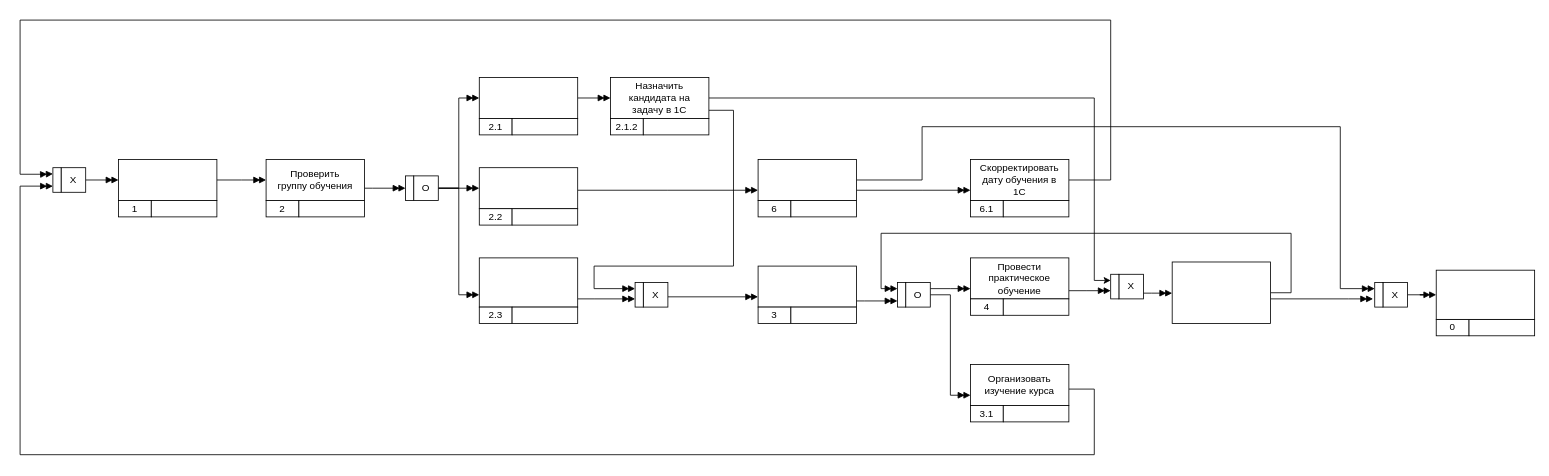
This 1549x476 diagram has some shape labels left out. Each missing label, with the box of its shape:
Выяснить причину неявки стажера: (757, 159, 856, 200)
Оценить готовность стажера к самостоятельной работе: (1171, 261, 1271, 323)
Подготовиться к обучению: (118, 159, 217, 200)
Поставить неявку в задаче в 1С: (478, 167, 578, 209)
Проверить прогресс курса в СДО: (757, 265, 856, 307)
Рассказать стажеру о правилах стажировки: (478, 257, 578, 307)
С-3.1: (1435, 269, 1535, 319)
Сообщить об отсутствии задачи в 1С: (478, 77, 578, 118)
